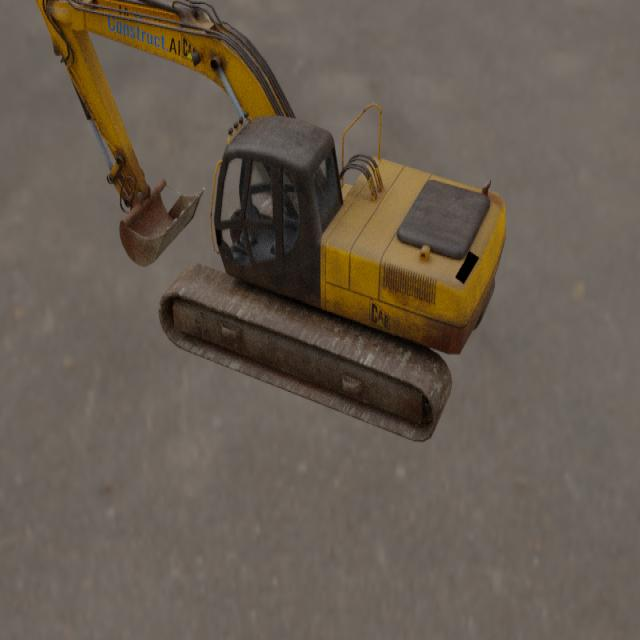excavator: (34, 0, 506, 444)
